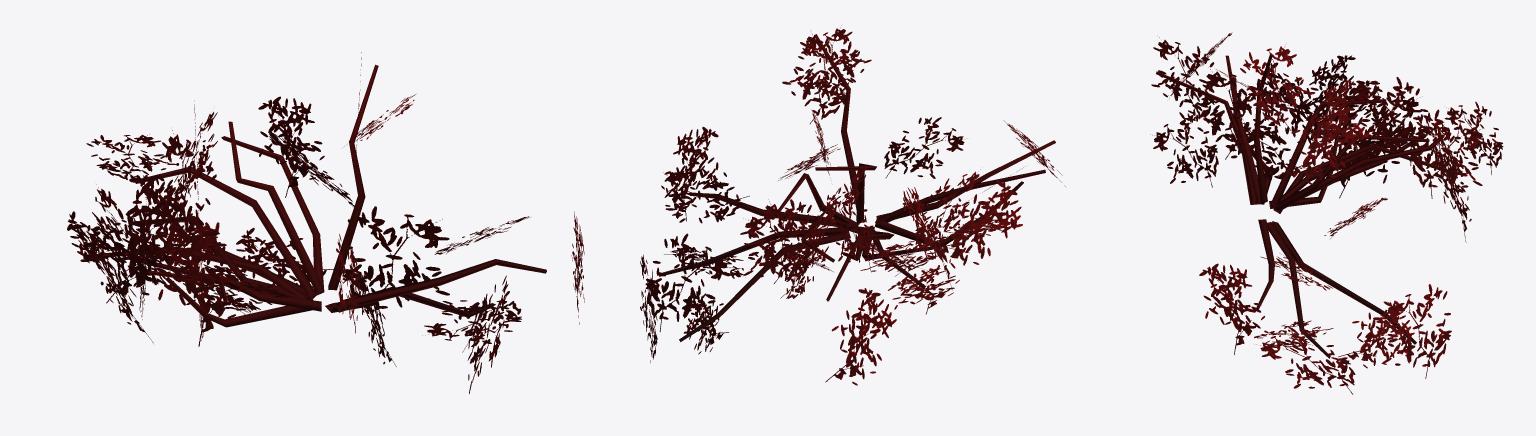
The model's file is bush_savanna_thornscrub_a.glb.
3 renders of one model, left to right at view 1: azimuth 30°, elevation 25°; view 2: azimuth 150°, elevation 25°; view 3: azimuth 270°, elevation 25°, orthographic. The views are drawn at different scales.
Parts seen in each view (by area): view 1: bush_savanna_thornscrub_a; view 2: bush_savanna_thornscrub_a; view 3: bush_savanna_thornscrub_a.
Part boxes in pixels (box(x1,y1,x2,y2)): bush_savanna_thornscrub_a: box(67, 52, 584, 393); bush_savanna_thornscrub_a: box(640, 25, 1065, 385); bush_savanna_thornscrub_a: box(1150, 32, 1503, 394).
Bounding box in the file's own units: 1.45 × 1.22 × 1.24.
Materials: 1 (1 with a texture image).
